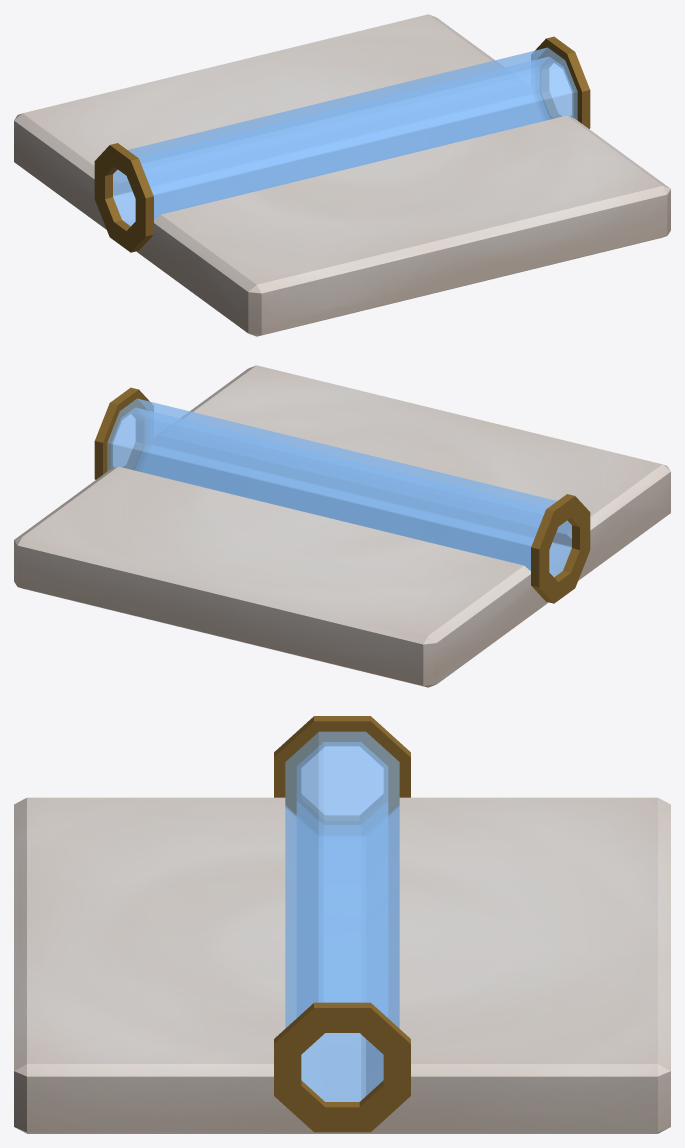
The model's file is straight_piece.fbx.
3 views of the same model, one above another, from view 1: azimuth 30°, elevation 25°; view 2: azimuth 150°, elevation 25°; view 3: azimuth 270°, elevation 25° (orthographic). The views are drawn at different scales.
Visible parts, largest first — view 1: puzzle_piece_straight_base, straight_pipe, pipe_endcap2, pipe_endcap1; view 2: puzzle_piece_straight_base, straight_pipe, pipe_endcap2, pipe_endcap1; view 3: puzzle_piece_straight_base, straight_pipe, pipe_endcap1, pipe_endcap2.
Part boxes in pixels (x1,y1,x2,y2): puzzle_piece_straight_base: (14, 14, 670, 336); straight_pipe: (113, 47, 577, 225); pipe_endcap2: (94, 143, 153, 252); pipe_endcap1: (531, 36, 590, 128); puzzle_piece_straight_base: (14, 365, 670, 687); straight_pipe: (107, 398, 571, 576); pipe_endcap2: (531, 494, 590, 603); pipe_endcap1: (94, 387, 153, 479); puzzle_piece_straight_base: (14, 797, 670, 1133); straight_pipe: (285, 731, 399, 1101); pipe_endcap1: (274, 1002, 410, 1132); pipe_endcap2: (274, 716, 410, 824).
Size of the model in its own units: 145 by 32.15 by 138.
